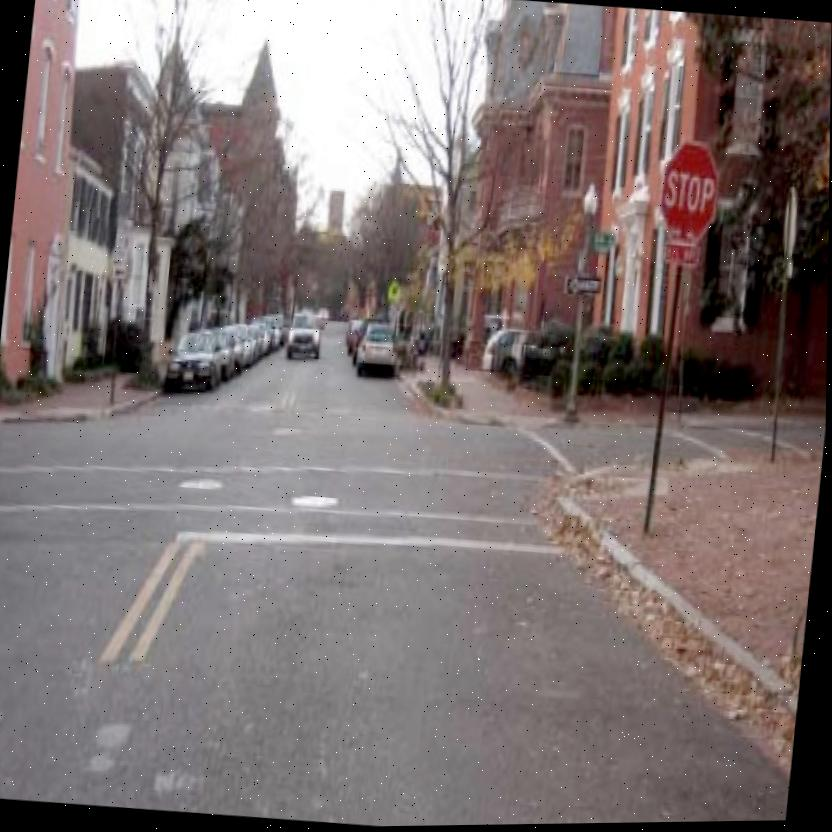Pole: (642, 265, 685, 534), (766, 282, 793, 466), (568, 301, 587, 407)
Sign: (655, 141, 724, 244)
